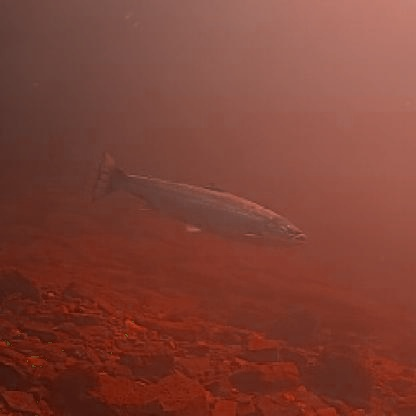salmon: (83, 146, 309, 246)
